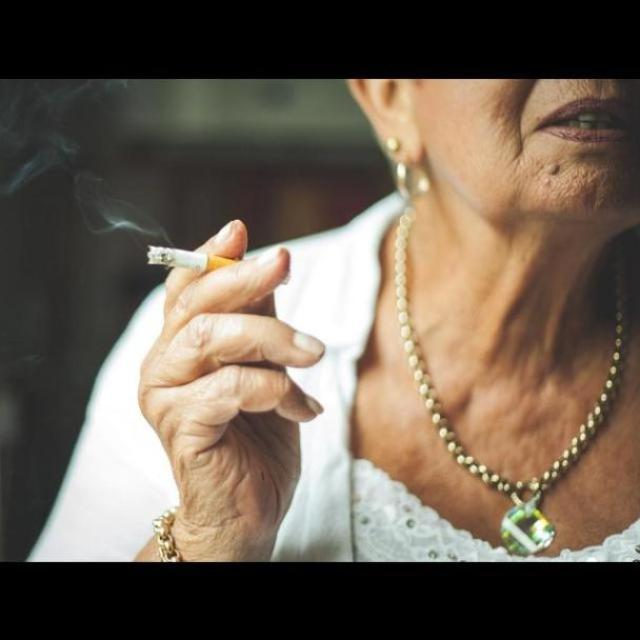rokok: (142, 244, 298, 292)
